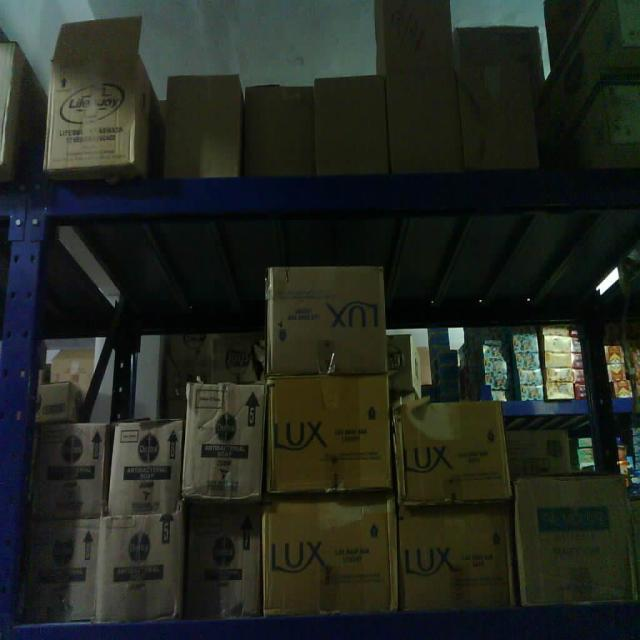box: (520, 483, 640, 607), (259, 508, 396, 612), (269, 382, 390, 495), (391, 395, 514, 500), (401, 505, 512, 615), (270, 268, 389, 370), (104, 512, 185, 630), (64, 13, 121, 155), (169, 70, 240, 182), (181, 392, 261, 488), (25, 523, 100, 617), (112, 423, 184, 517), (195, 515, 259, 615), (320, 82, 389, 170), (35, 428, 109, 510), (389, 82, 460, 163), (374, 3, 459, 70), (465, 85, 536, 163), (251, 87, 311, 172), (464, 27, 542, 75)
